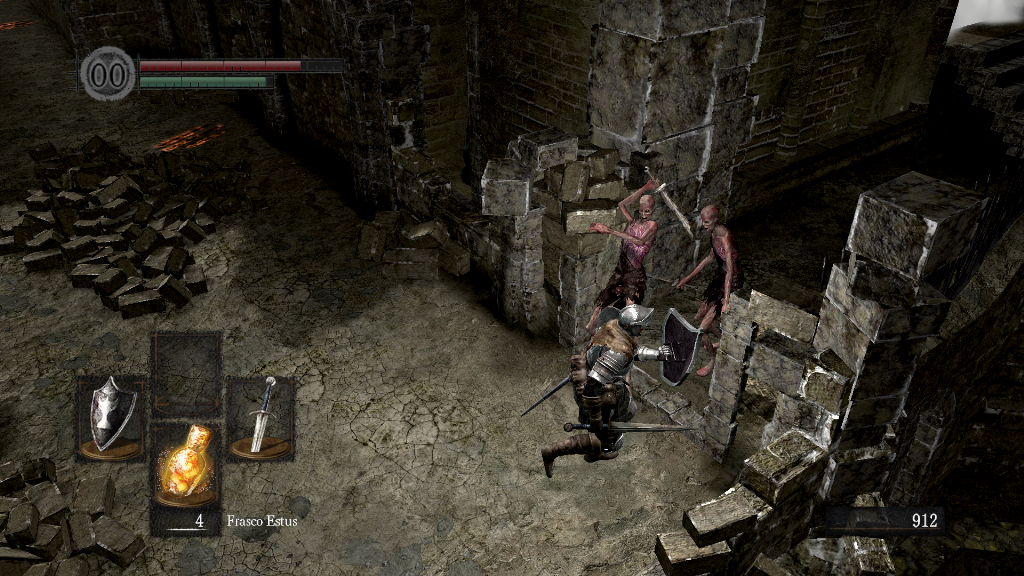health: (138, 58, 343, 71)
hollow: (587, 168, 692, 387), (645, 203, 734, 379)
humanity: (80, 45, 136, 102)
player: (517, 301, 703, 479)
souls: (825, 506, 945, 536)
stamina: (138, 74, 274, 88)
